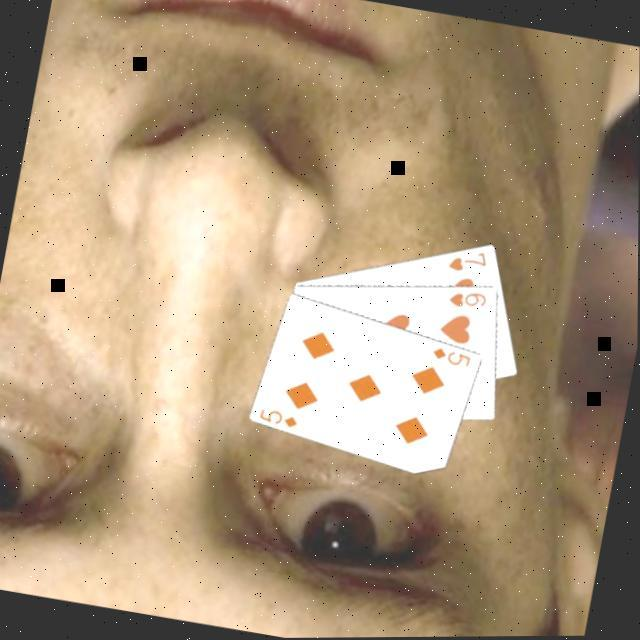5D: (256, 406, 304, 434), (430, 346, 477, 372)
6H: (446, 287, 492, 316)
7H: (446, 246, 493, 281)
